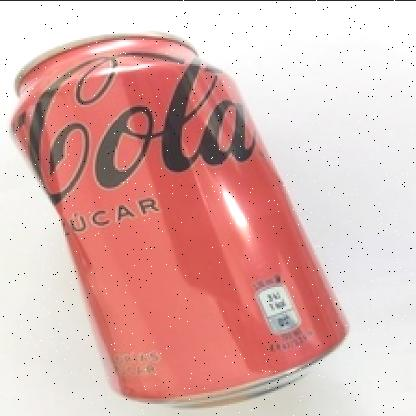Can: (7, 8, 346, 408)
